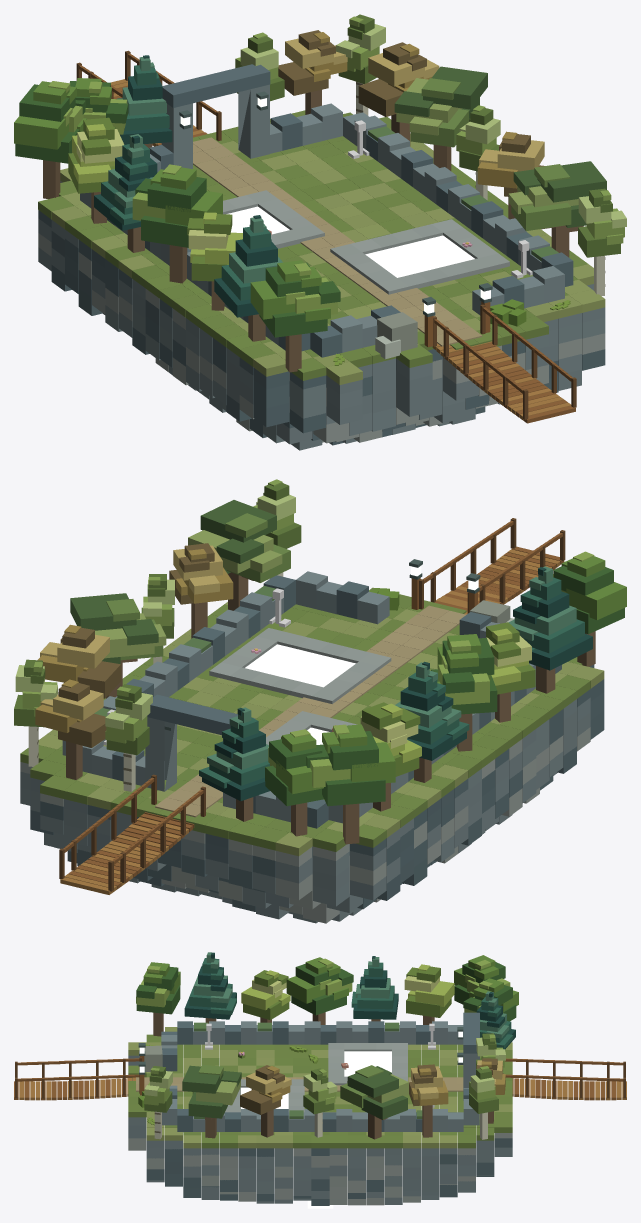
The model's file is room_pools_purified.glb.
3 renders of one model, top to bottom at view 1: azimuth 30°, elevation 25°; view 2: azimuth 150°, elevation 25°; view 3: azimuth 270°, elevation 25°, orthographic. The views are drawn at different scales.
Visible parts, largest first — view 1: room_pools_blocks, tree0_(0, 0).001, tree0_(0, 0).002, tree3_(0, 0).002, tree3_(0, 0).001, tree0_(0, 0).003, tree2_(0, 0).001, tree5_(0, 0).002, tree2_(0, 0).002, tree5_(0, 0).003, tree4_(0, 0).002, tree2_(0, 0).003 (+9 smaller); view 2: room_pools_blocks, tree0_(0, 0).003, tree3_(0, 0).001, tree2_(0, 0).001, tree2_(0, 0).003, tree3_(0, 0).002, tree0_(0, 0).002, tree2_(0, 0).002, tree0_(0, 0).001, tree5_(0, 0).003, tree0_(0, 0).004, tree5_(0, 0).002 (+8 smaller); view 3: room_pools_blocks, tree3_(0, 0).002, tree0_(0, 0).002, tree3_(0, 0).001, tree2_(0, 0).001, tree0_(0, 0).001, tree2_(0, 0).002, tree4_(0, 0).002, tree5_(0, 0).001, tree4_(0, 0).001, tree5_(0, 0).002, tree0_(0, 0).003 (+8 smaller).
Boxes of the visible parts, x1,y1,x2,y2 form: room_pools_blocks: (38, 50, 605, 450); tree0_(0, 0).001: (250, 260, 340, 372); tree0_(0, 0).002: (132, 164, 222, 283); tree3_(0, 0).002: (394, 66, 487, 170); tree3_(0, 0).001: (508, 161, 606, 257); tree0_(0, 0).003: (14, 81, 86, 198); tree2_(0, 0).001: (214, 215, 282, 341); tree5_(0, 0).002: (358, 42, 439, 146); tree2_(0, 0).002: (94, 134, 157, 252); tree5_(0, 0).003: (278, 30, 347, 114); tree4_(0, 0).002: (68, 117, 124, 223); tree2_(0, 0).003: (117, 55, 172, 148); room_pools_blocks: (20, 518, 604, 923); tree0_(0, 0).003: (306, 724, 395, 844); tree3_(0, 0).001: (188, 500, 290, 610); tree2_(0, 0).001: (509, 566, 592, 693); tree2_(0, 0).003: (199, 707, 269, 821); tree3_(0, 0).002: (70, 593, 166, 698); tree0_(0, 0).002: (431, 634, 497, 751); tree2_(0, 0).002: (395, 661, 469, 782); tree0_(0, 0).001: (553, 551, 626, 666); tree5_(0, 0).003: (35, 679, 106, 779); tree0_(0, 0).004: (265, 729, 323, 836); tree5_(0, 0).002: (37, 624, 120, 698); room_pools_blocks: (14, 1012, 626, 1208); tree3_(0, 0).002: (340, 1065, 408, 1139); tree0_(0, 0).002: (286, 957, 353, 1024); tree3_(0, 0).001: (182, 1064, 241, 1138); tree2_(0, 0).001: (184, 952, 236, 1023); tree0_(0, 0).001: (136, 962, 180, 1036); tree2_(0, 0).002: (351, 956, 398, 1021); tree4_(0, 0).002: (404, 964, 454, 1024); tree5_(0, 0).001: (240, 1065, 291, 1137); tree4_(0, 0).001: (241, 970, 290, 1022); tree5_(0, 0).002: (409, 1064, 448, 1137); tree0_(0, 0).003: (454, 955, 510, 1004).
Size of the model in its own units: 19.66 by 13.88 by 38.5.
